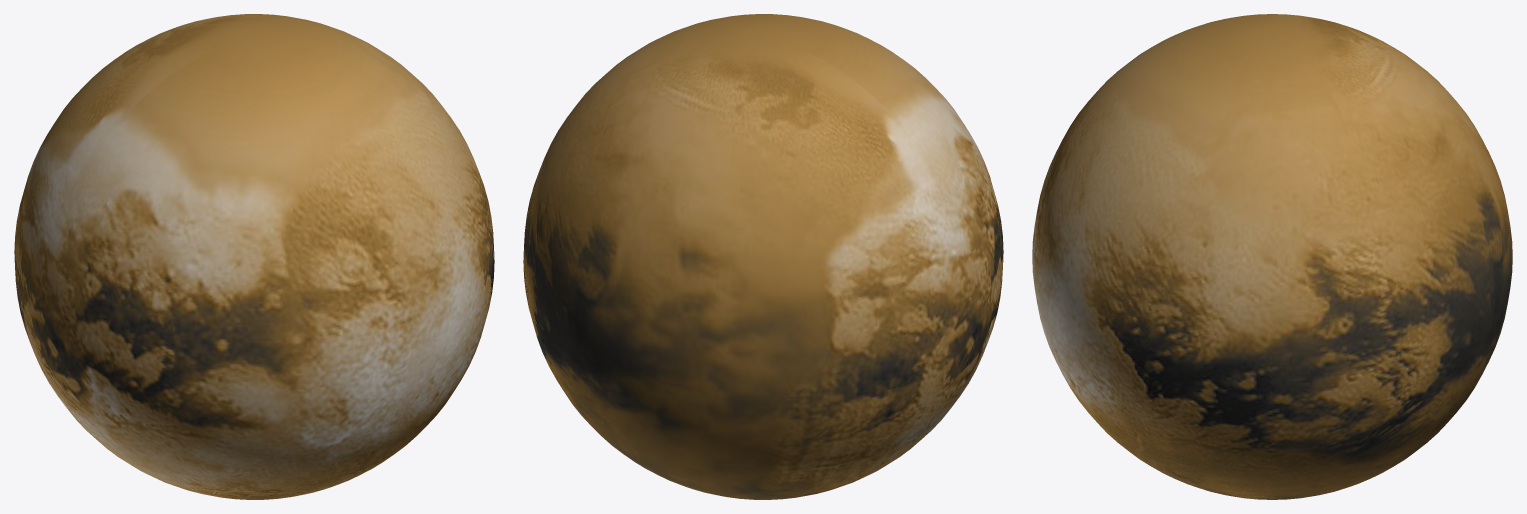
Rendered from titan.obj.
3 renders of one model, left to right at view 1: azimuth 30°, elevation 25°; view 2: azimuth 150°, elevation 25°; view 3: azimuth 270°, elevation 25°, orthographic.
Visible parts, largest first — view 1: titan; view 2: titan; view 3: titan.
Boxes of the visible parts, x1,y1,x2,y2 form: titan: [14, 14, 494, 499]; titan: [523, 14, 1003, 499]; titan: [1032, 14, 1512, 499].
Size of the model in its own units: 4.92 by 4.97 by 4.92.
Materials: 1 (1 with a texture image).
